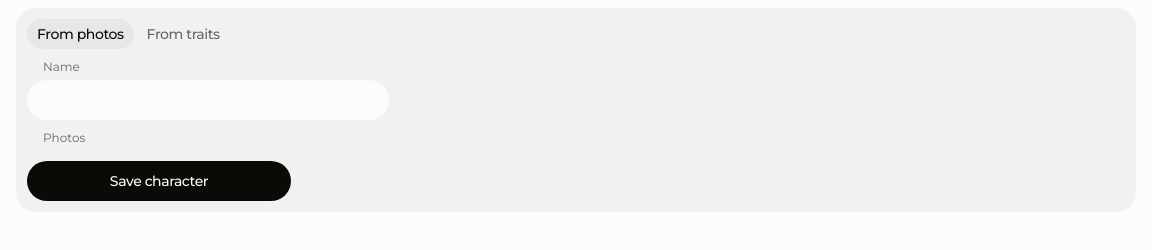
Add a character from photos › asks for the name and the photos in the column, and saves from its foot
Expected: the element named "Add a character" shows "Name", x1=43 y1=59 x2=80 y2=74
Expected: the element named "Add a character" shows "photos", x1=43 y1=130 x2=85 y2=145
Click the button "Save character" at (159, 181), box x1=27 y1=161 x2=291 y2=201
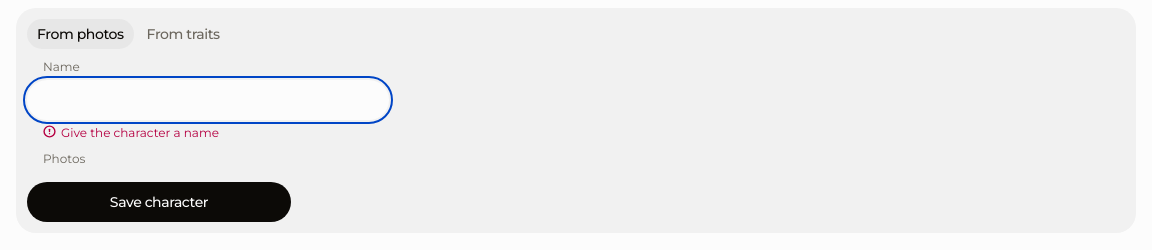
Result: the text "Give the character a name" is shown at x1=61 y1=125 x2=219 y2=141
